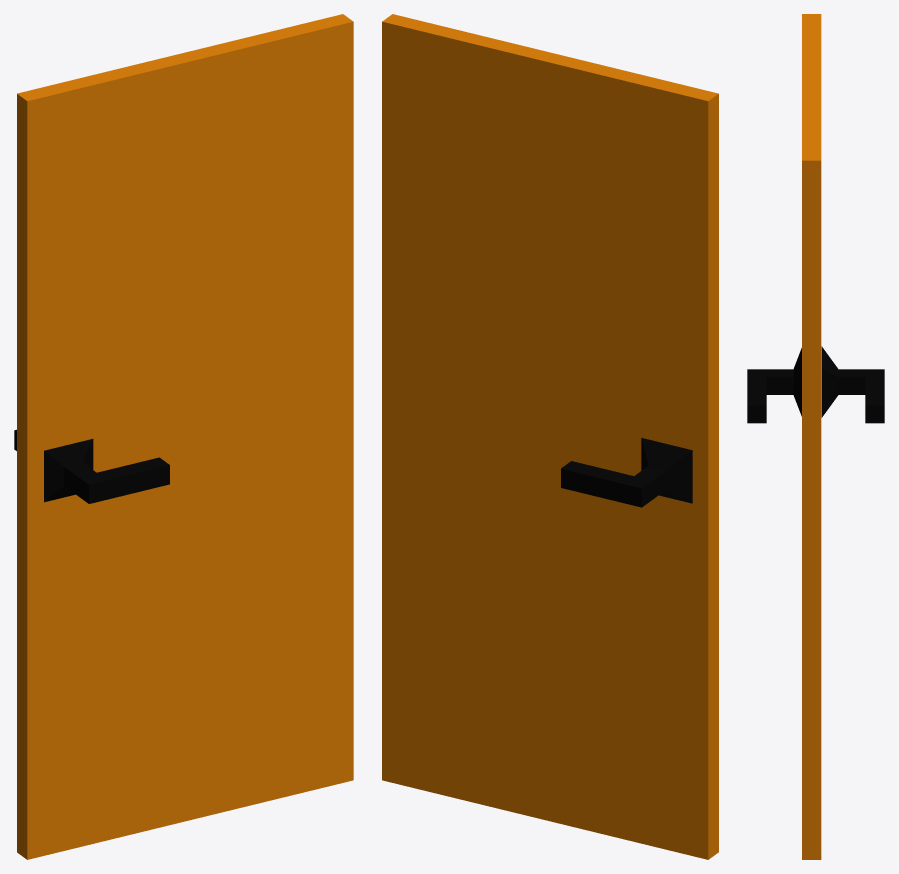
Rendered from Door3.fbx.
The picture shows the model from 3 angles, left to right: view 1: azimuth 30°, elevation 25°; view 2: azimuth 150°, elevation 25°; view 3: azimuth 270°, elevation 25°; orthographic projection. The views are drawn at different scales.
Visible parts, largest first — view 1: Door; view 2: Door; view 3: Door.
Part boxes in pixels (box(x1,y1,x2,y2)): Door: box(14, 14, 353, 859); Door: box(382, 14, 718, 859); Door: box(747, 14, 884, 859).
Size of the model in its own units: 215 by 478 by 85.21.
